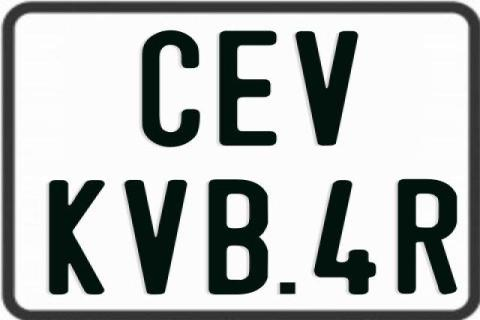0: (311, 179, 378, 295)
B: (206, 177, 270, 297)
C: (142, 29, 206, 145)
E: (218, 32, 278, 150)
K: (48, 180, 104, 298)
R: (396, 179, 456, 299)
V: (294, 29, 357, 147), (121, 179, 185, 295)
